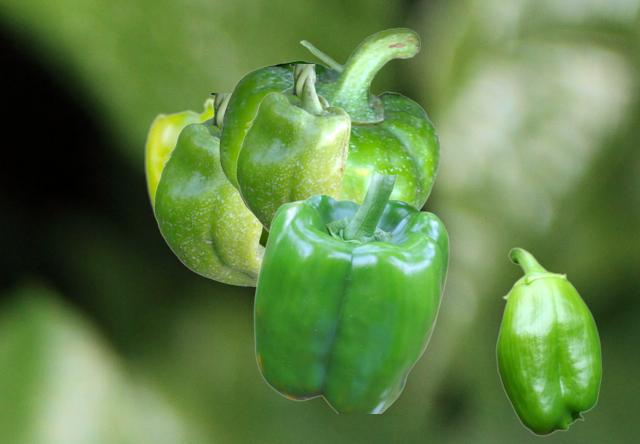bell_pepper: (253, 175, 448, 412), (219, 27, 439, 232), (144, 97, 267, 277), (153, 93, 264, 286), (495, 247, 601, 435), (235, 64, 351, 231)
